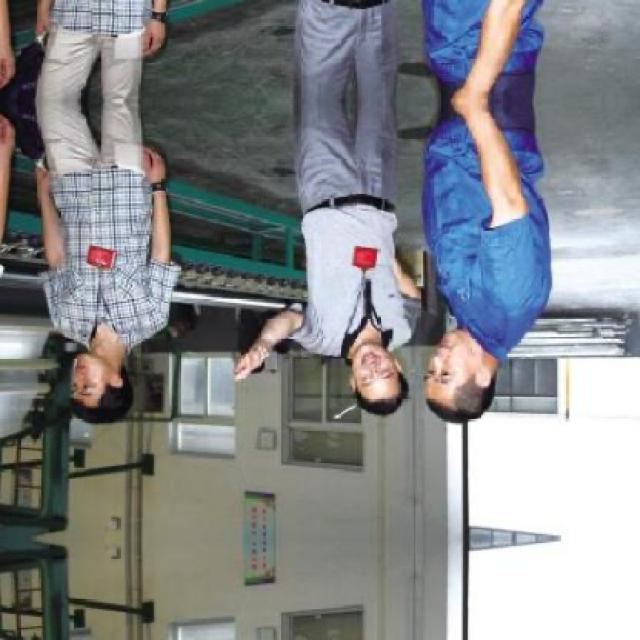sin casco: (402, 321, 510, 441), (43, 326, 129, 430), (322, 330, 406, 432)
